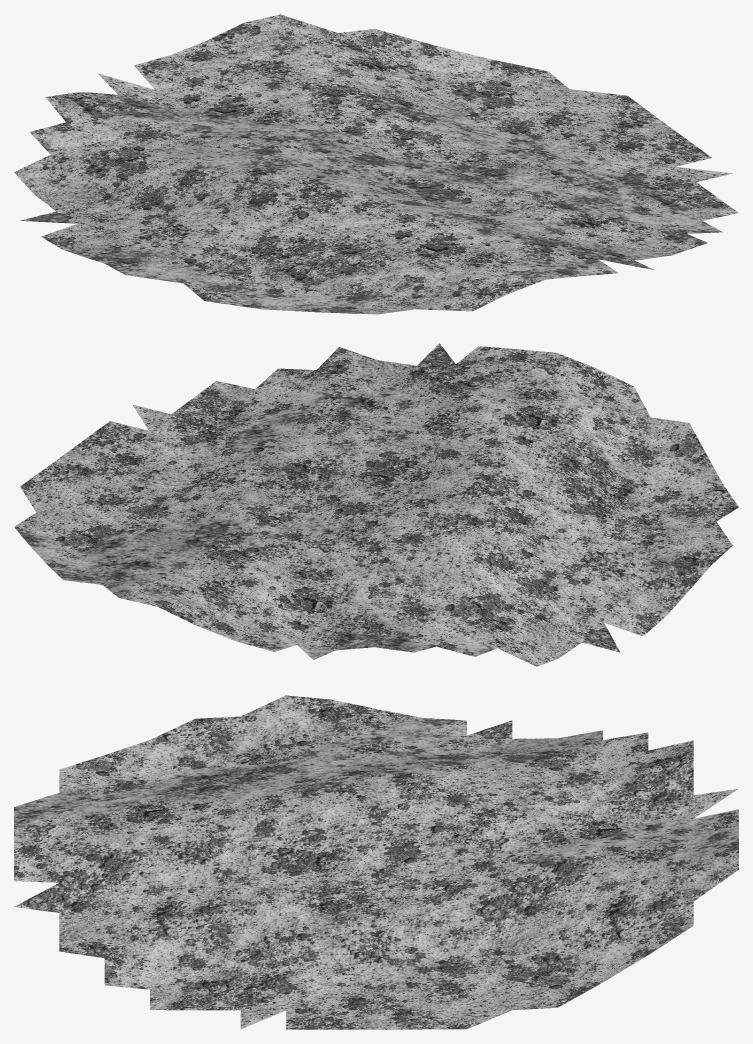
The model's file is hill.dae.
The picture shows the model from 3 angles, top to bottom: view 1: azimuth 30°, elevation 25°; view 2: azimuth 150°, elevation 25°; view 3: azimuth 270°, elevation 25°; orthographic projection. The views are drawn at different scales.
Visible parts, largest first — view 1: Terrain; view 2: Terrain; view 3: Terrain.
Boxes of the visible parts, bbox=[...] form: Terrain: bbox=[14, 14, 738, 314]; Terrain: bbox=[14, 343, 738, 666]; Terrain: bbox=[14, 695, 738, 1029].
Size of the model in its own units: 8 by 8 by 0.59.
Materials: 1 (1 with a texture image).
